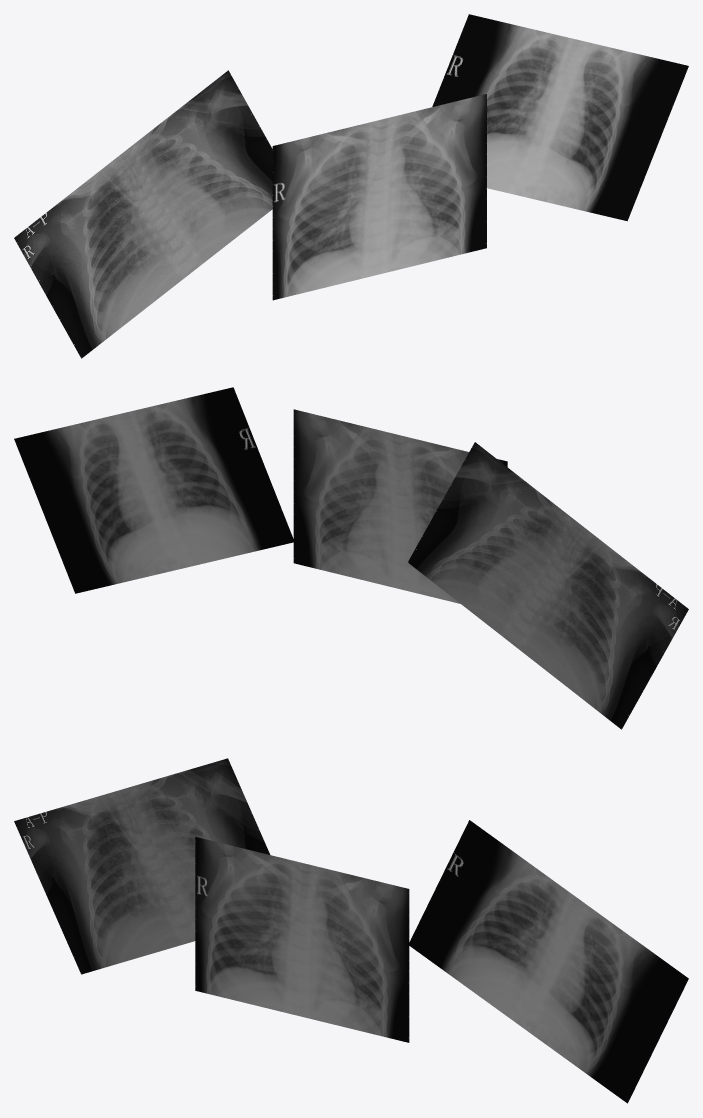
File: xraysblend.glb
3 renders of one model, top to bottom at view 1: azimuth 30°, elevation 25°; view 2: azimuth 150°, elevation 25°; view 3: azimuth 330°, elevation 25°, orthographic.
Parts seen in each view (by area): view 1: person1946_bacteria_4874, person1950_bacteria_4881, person1944_bacteria_4869; view 2: person1944_bacteria_4869, person1946_bacteria_4874, person1950_bacteria_4881; view 3: person1944_bacteria_4869, person1950_bacteria_4881, person1946_bacteria_4874.
Boxes of the visible parts, <box> form: person1946_bacteria_4874: <box>14,70,272,358</box>; person1950_bacteria_4881: <box>272,94,486,300</box>; person1944_bacteria_4869: <box>432,14,688,221</box>; person1944_bacteria_4869: <box>14,387,294,593</box>; person1946_bacteria_4874: <box>408,442,688,729</box>; person1950_bacteria_4881: <box>293,409,507,603</box>; person1944_bacteria_4869: <box>409,820,688,1103</box>; person1950_bacteria_4881: <box>195,837,409,1042</box>; person1946_bacteria_4874: <box>14,758,270,974</box>.
Size of the model in its own units: 4.58 by 1.64 by 0.4608.
Materials: 3 (3 with a texture image).
